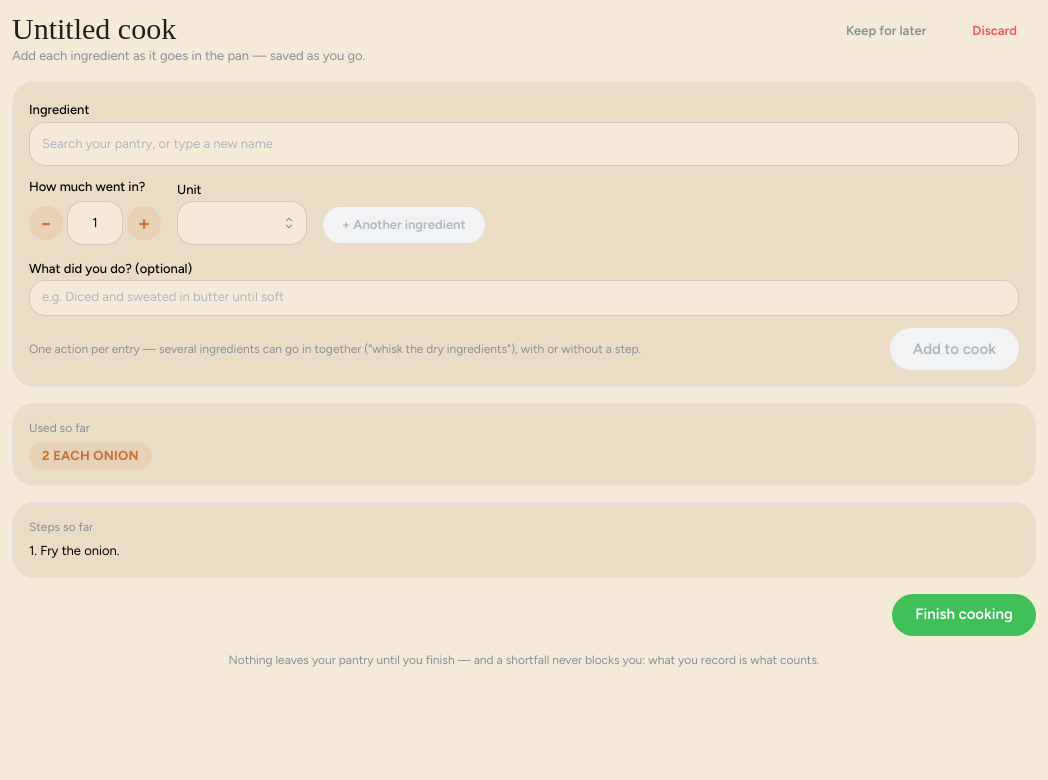
Scenario: AdHocCookPage › finishes with save and shows the shortfall report instead of an error
Click the button "Finish cooking" at (964, 614), box [892,594,1036,636]
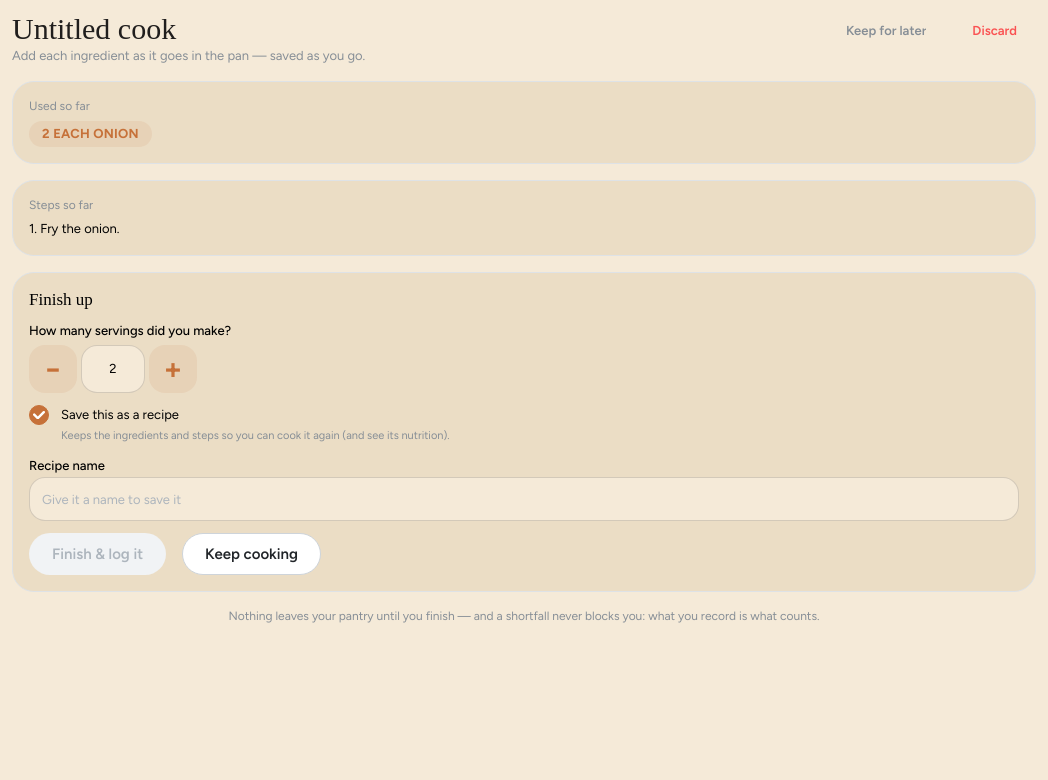
Type "Fried onions" into the field labelled "Recipe name" at (524, 499), box [29,477,1019,521]
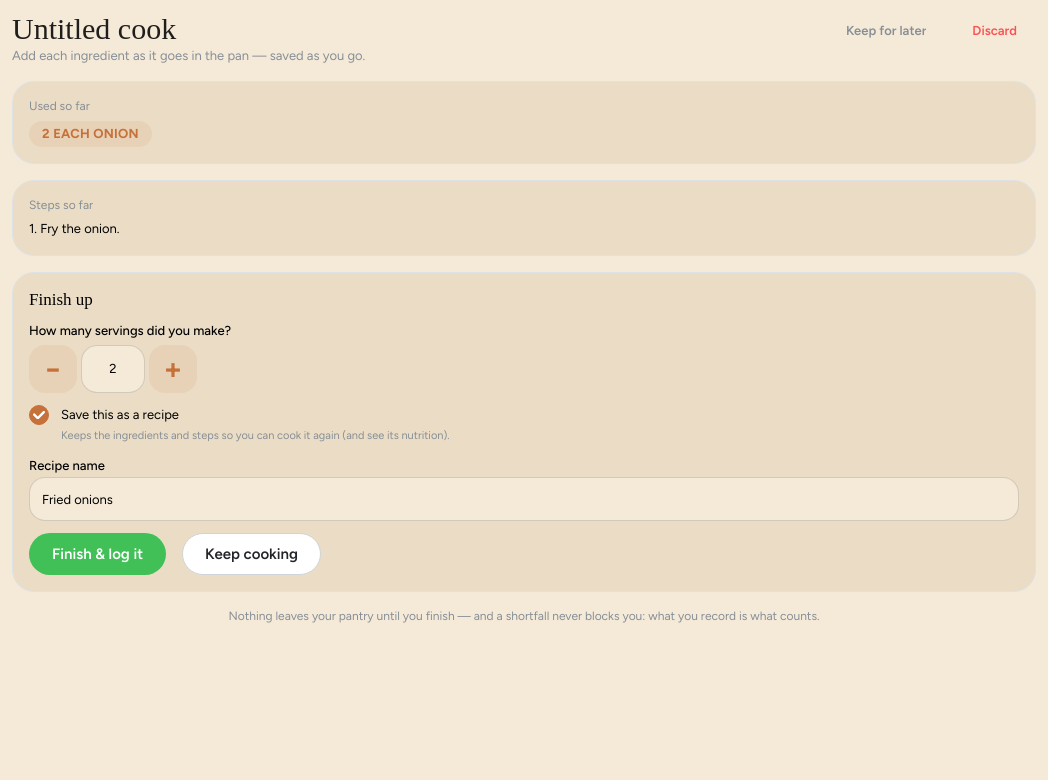
Click the button "Finish & log it" at (98, 554), box [29,533,166,575]
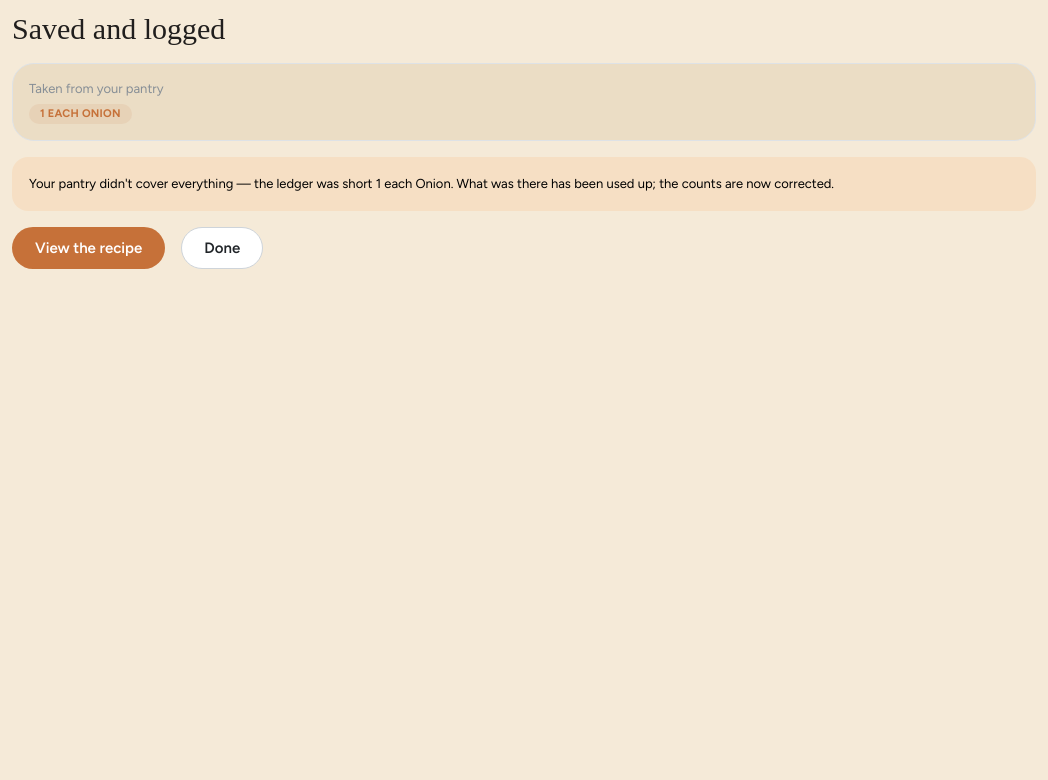
Expected: the heading "Saved and logged" is shown, [12,12,225,45]
Expected: the text "short" is shown, [29,176,372,191]
